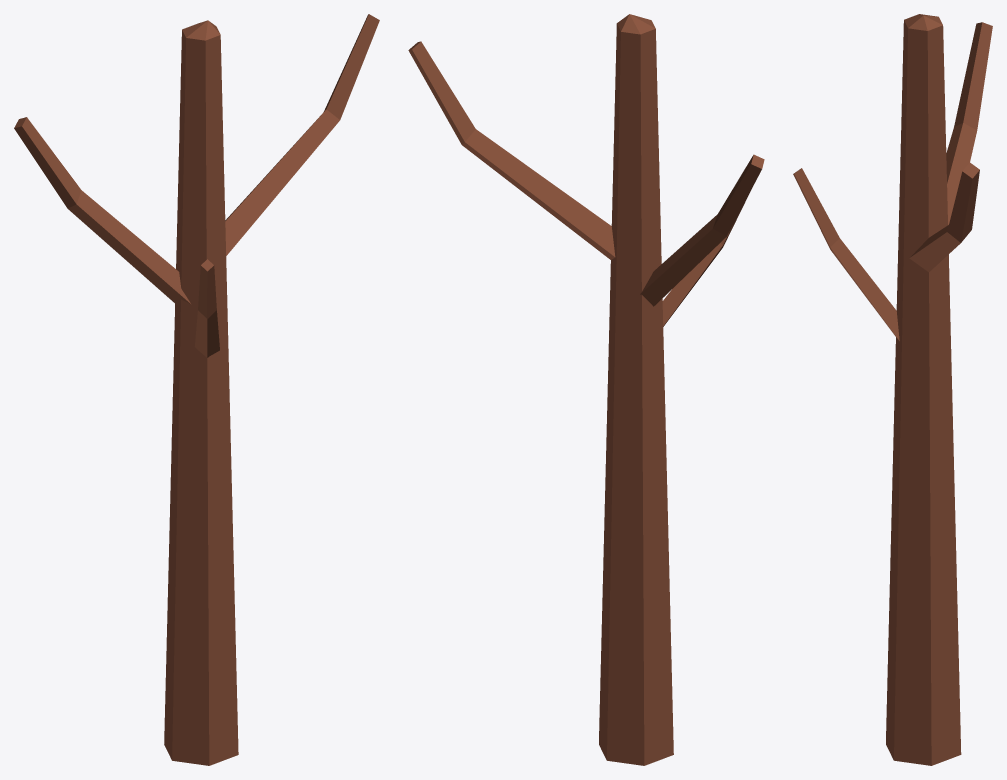
The model's file is Tree_35_spring_mat.fbx.
3 renders of one model, left to right at view 1: azimuth 30°, elevation 25°; view 2: azimuth 150°, elevation 25°; view 3: azimuth 270°, elevation 25°, orthographic.
Parts seen in each view (by area): view 1: Tree_35_spring_mat; view 2: Tree_35_spring_mat; view 3: Tree_35_spring_mat.
Boxes of the visible parts, left/top/right/bottom form: Tree_35_spring_mat: left=14, top=14, right=379, bottom=765; Tree_35_spring_mat: left=408, top=14, right=764, bottom=765; Tree_35_spring_mat: left=793, top=14, right=992, bottom=765.
Size of the model in its own units: 10.55 by 20.5 by 5.03.
